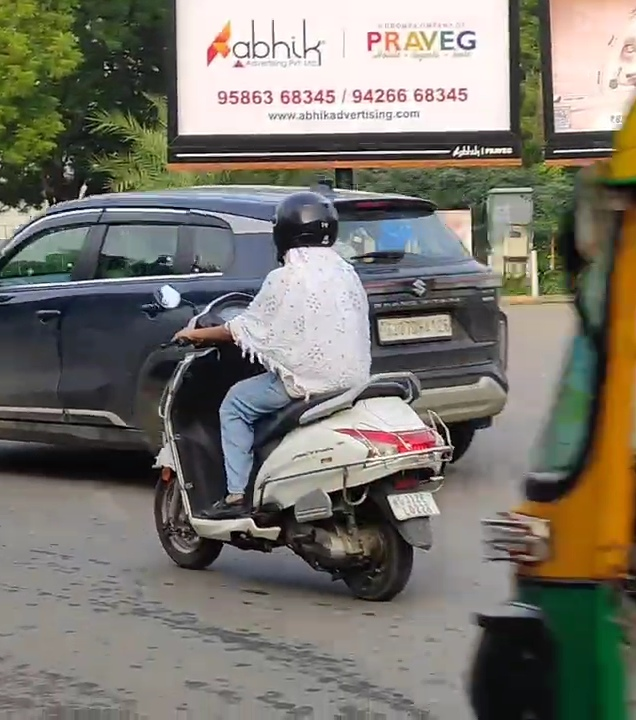BikeWithRider: (132, 181, 461, 608)
Helmet: (263, 184, 345, 265)
